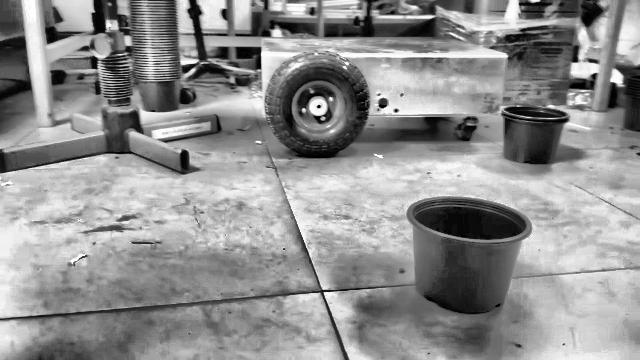pot: (407, 197, 531, 313), (501, 106, 569, 163)
